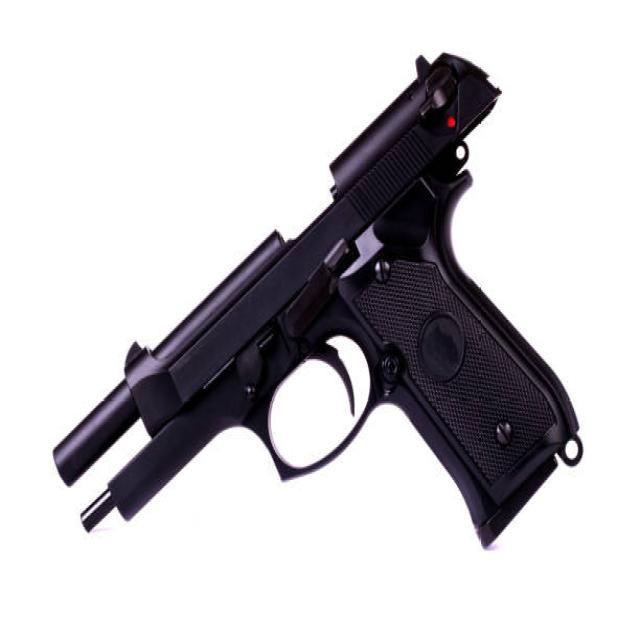pistol: (49, 39, 595, 556)
